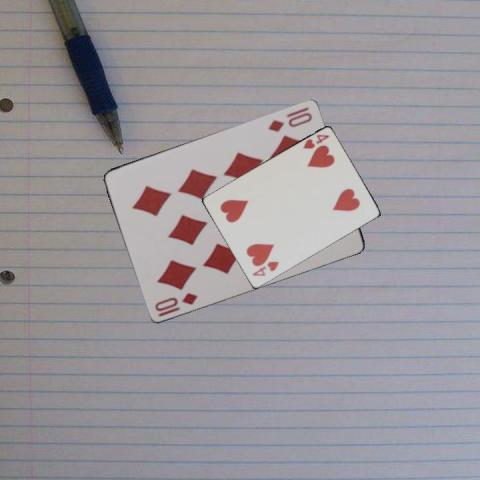10d: (152, 289, 199, 318), (265, 109, 314, 133)
4h: (300, 131, 331, 151), (249, 259, 281, 278)
